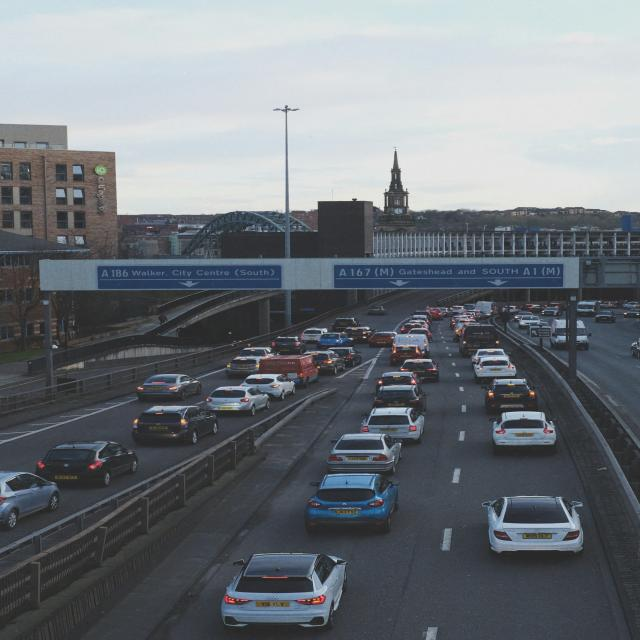Car: (221, 552, 348, 629), (482, 495, 584, 555), (304, 473, 400, 533), (36, 440, 138, 487), (0, 470, 60, 529), (132, 405, 218, 445), (326, 432, 402, 474), (490, 411, 557, 451), (203, 386, 270, 416), (481, 378, 538, 413), (136, 374, 202, 401), (372, 384, 428, 414), (239, 373, 296, 400), (473, 357, 517, 383), (303, 350, 345, 374), (375, 372, 420, 394), (399, 359, 439, 382), (224, 356, 261, 378), (326, 347, 362, 367), (471, 348, 508, 366), (270, 336, 306, 354), (316, 332, 354, 349), (238, 346, 278, 359), (368, 332, 396, 348), (300, 327, 328, 343), (518, 315, 543, 329), (595, 310, 616, 322), (541, 306, 561, 316), (514, 312, 534, 322), (368, 305, 387, 315), (630, 339, 640, 358), (623, 308, 640, 317)
Truck: (258, 354, 319, 388)
